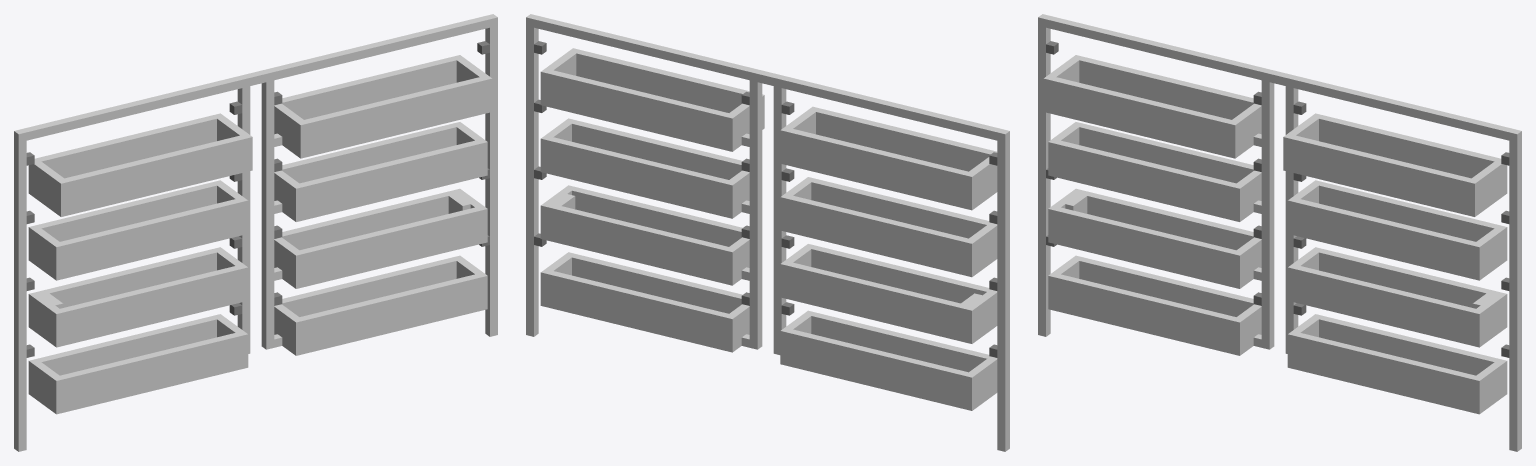
File: Green House Plant Wall 1.obj
The picture shows the model from 3 angles, left to right: view 1: azimuth 30°, elevation 25°; view 2: azimuth 150°, elevation 25°; view 3: azimuth 330°, elevation 25°; orthographic projection.
Size of the model in its own units: 60 by 38 by 7.
Materials: 1 (1 with a texture image).
